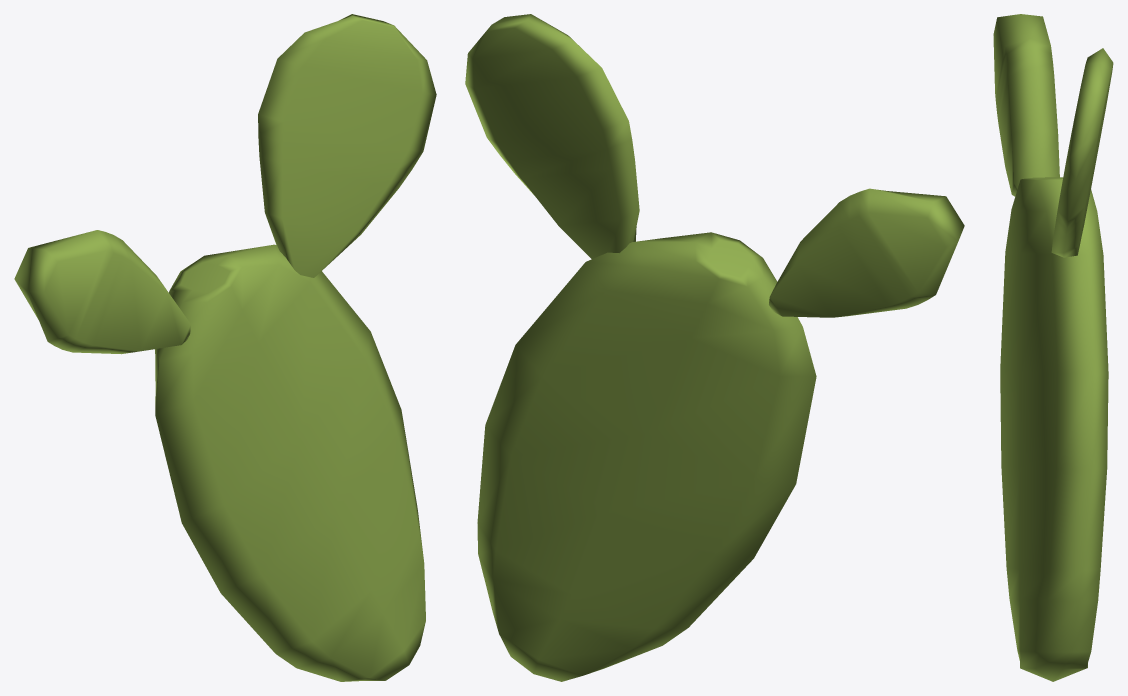
The model's file is SmallCactus_Particle.fbx.
The picture shows the model from 3 angles, left to right: view 1: azimuth 30°, elevation 25°; view 2: azimuth 150°, elevation 25°; view 3: azimuth 270°, elevation 25°; orthographic projection. The views are drawn at different scales.
Parts seen in each view (by area): view 1: SmallCactus_Particle; view 2: SmallCactus_Particle; view 3: SmallCactus_Particle.
Boxes of the visible parts, bbox=[...] form: SmallCactus_Particle: bbox=[14, 14, 436, 681]; SmallCactus_Particle: bbox=[465, 14, 964, 681]; SmallCactus_Particle: bbox=[993, 14, 1113, 681].
Size of the model in its own units: 0.5089 by 0.7048 by 0.1248.
